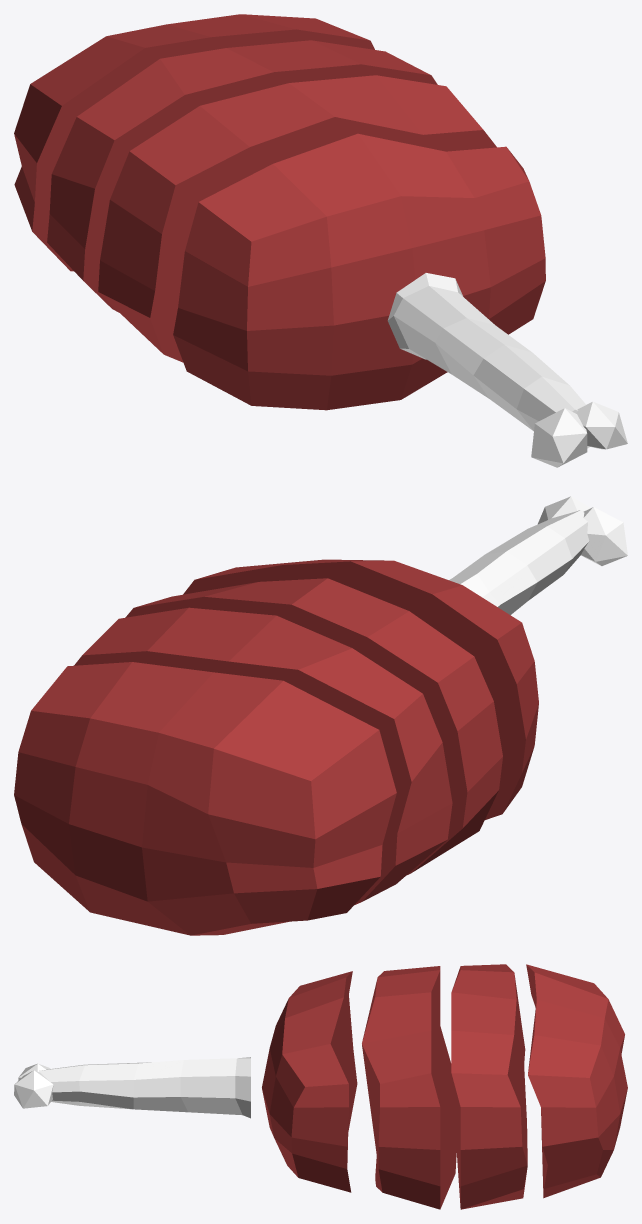
File: goat_leg_chop_4.glb
The picture shows the model from 3 angles, top to bottom: view 1: azimuth 30°, elevation 25°; view 2: azimuth 150°, elevation 25°; view 3: azimuth 270°, elevation 25°; orthographic projection. The views are drawn at different scales.
Parts seen in each view (by area): view 1: Meat, Meat.003, Meat.002, Icosphere, Meat.001; view 2: Meat.001, Meat.002, Meat.003, Meat, Icosphere; view 3: Meat.003, Meat.001, Meat.002, Meat, Icosphere.
Boxes of the visible parts, x1,y1,x2,y2 form: Meat: (173, 133, 545, 410); Meat.003: (98, 75, 496, 362); Meat.002: (47, 40, 437, 312); Icosphere: (387, 273, 627, 467); Meat.001: (14, 14, 374, 271); Meat.001: (14, 662, 396, 935); Meat.002: (74, 607, 452, 904); Meat.003: (125, 578, 502, 875); Meat: (183, 559, 538, 819); Icosphere: (449, 496, 627, 614); Meat.003: (362, 966, 456, 1209); Meat.001: (526, 964, 627, 1198); Meat.002: (451, 964, 527, 1209); Meat: (262, 971, 357, 1192); Icosphere: (14, 1057, 250, 1118).
Bounding box in the file's own units: 0.108 × 0.0753 × 0.2251.
